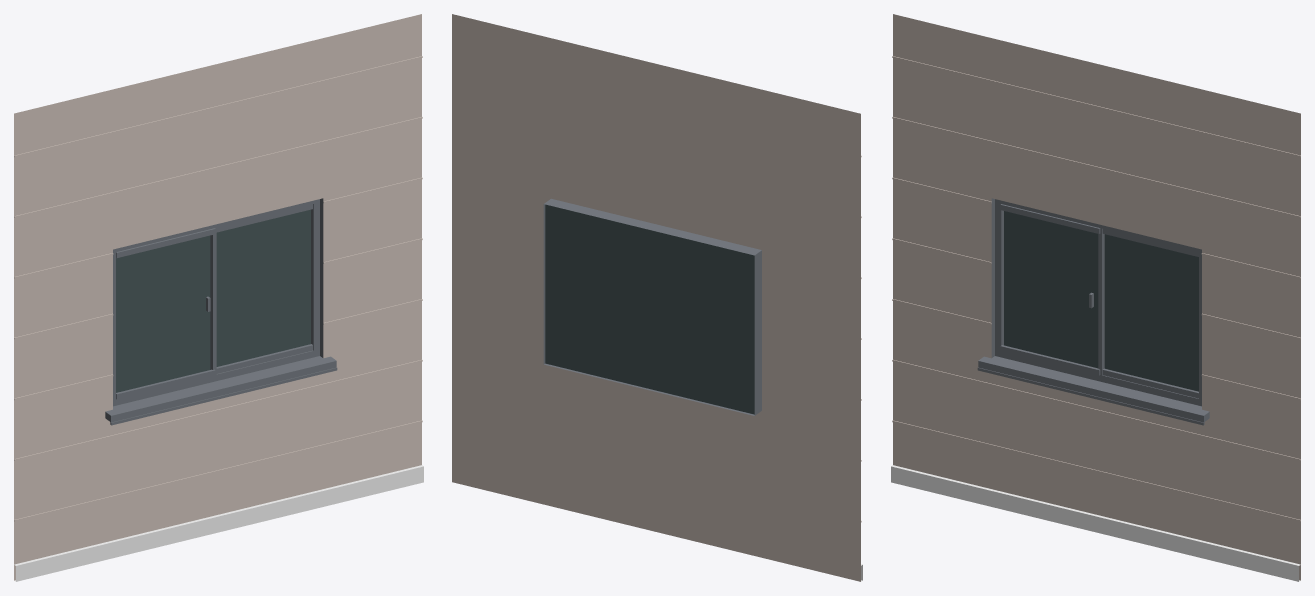
Rendered from mid-w1_close.fbx.
The picture shows the model from 3 angles, left to right: view 1: azimuth 30°, elevation 25°; view 2: azimuth 150°, elevation 25°; view 3: azimuth 330°, elevation 25°; orthographic projection.
Visible parts, largest first — view 1: a2000s2/0/mid-w1_close; view 2: a2000s2/0/mid-w1_close; view 3: a2000s2/0/mid-w1_close.
Part boxes in pixels (x1,y1,x2,y2): a2000s2/0/mid-w1_close: [14, 14, 423, 581]; a2000s2/0/mid-w1_close: [452, 14, 862, 581]; a2000s2/0/mid-w1_close: [891, 14, 1300, 581].
Bounding box in the file's own units: 3.2 × 3.5 × 0.185.
